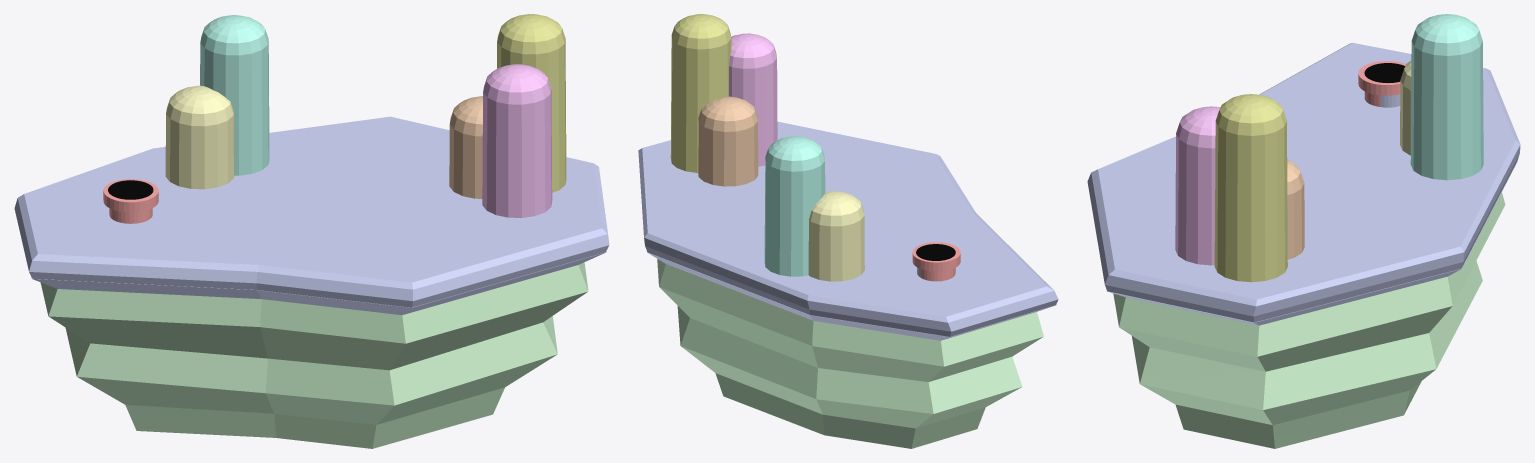
The model's file is world4.gltf.
3 renders of one model, left to right at view 1: azimuth 30°, elevation 25°; view 2: azimuth 150°, elevation 25°; view 3: azimuth 270°, elevation 25°, orthographic. The views are drawn at different scales.
Parts seen in each view (by area): view 1: Cube.002, Sphere 4.001, Sphere.002, Sphere.001, Sphere 5.001, Sphere 2.002, Cylinder, Cylinder.001; view 2: Cube.002, Sphere.002, Sphere 5.001, Sphere 2.002, Sphere.001, Sphere 4.001, Cylinder, Cylinder.001; view 3: Cube.002, Sphere 5.001, Sphere.002, Sphere 4.001, Sphere 2.002, Sphere.001, Cylinder, Cylinder.001.
Boxes of the visible parts, x1,y1,x2,y2 form: Cube.002: (14,116,609,448); Sphere 4.001: (482,64,552,217); Sphere.002: (200,15,269,175); Sphere.001: (165,85,234,189); Sphere 5.001: (497,14,566,192); Sphere 2.002: (449,96,482,198); Cylinder: (103,179,158,212); Cylinder.001: (108,180,153,199); Cube.002: (638,121,1058,448); Sphere.002: (764,136,825,276); Sphere 5.001: (670,14,731,172); Sphere 2.002: (698,96,758,186); Sphere.001: (808,191,864,281); Sphere 4.001: (729,33,777,166); Cylinder: (912,242,960,271); Cylinder.001: (916,244,955,260); Cube.002: (1087,42,1520,448); Sphere 5.001: (1214,94,1287,282); Sphere.002: (1410,14,1483,180); Sphere 4.001: (1175,106,1220,265); Sphere 2.002: (1287,159,1304,259); Sphere.001: (1400,61,1411,155); Cylinder: (1358,61,1405,95); Cylinder.001: (1364,63,1404,82).
Bounding box in the file's own units: 13.73 × 8.85 × 9.48.
